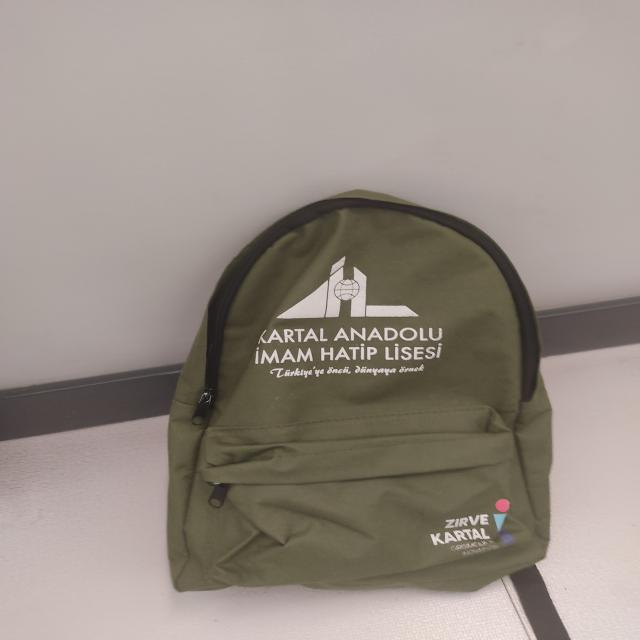bag: (162, 186, 564, 598)
